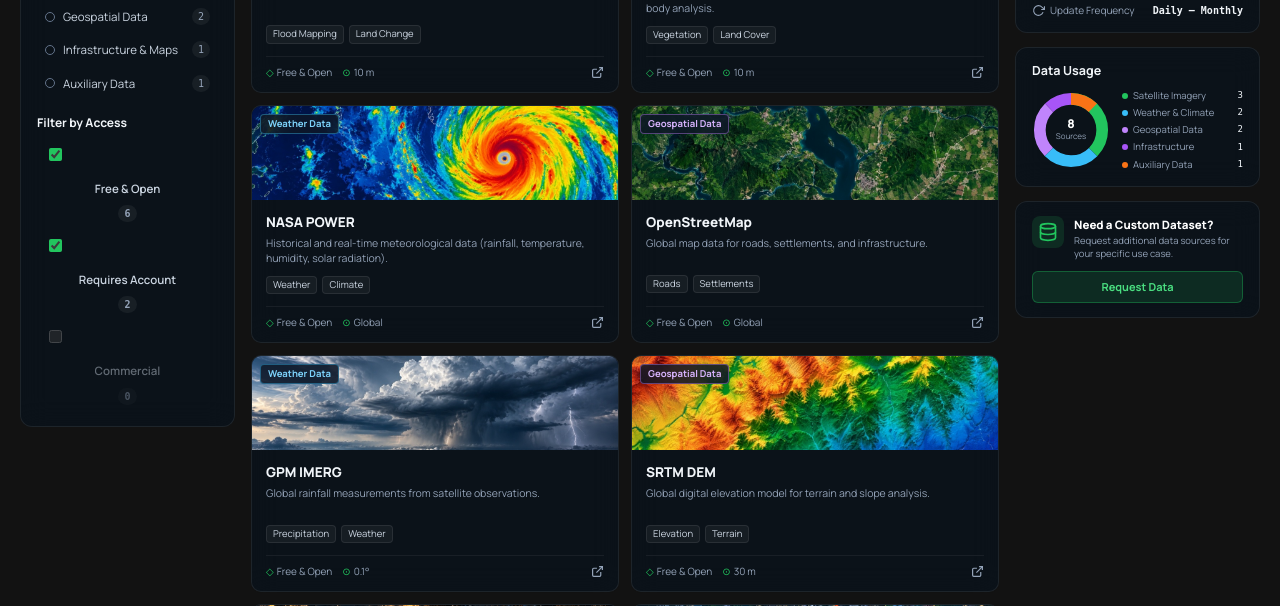
handles dataset request modal interaction
The width and height of the screenshot is (1280, 606).
(page scrolled)
Note: Open modal
Click the button "Request Data".
click(1138, 287)  # box [1032, 271, 1243, 303]
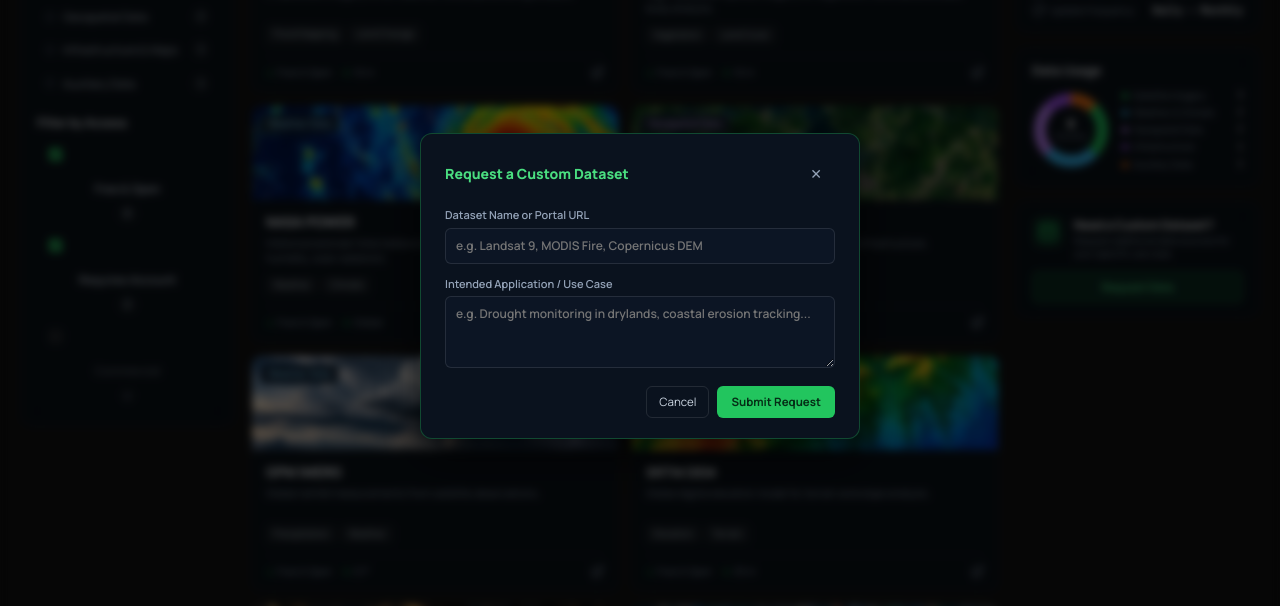
Now the heading "Request a Custom Dataset" is shown, box [445, 163, 629, 184]
Note: Fill in input and submit
Type "Landsat 9 Thermal" into the field with placeholder "e.g. Landsat 9, MODIS Fire, Copernicus DEM".
click(640, 246); type("Landsat 9 Thermal")  # box [445, 228, 835, 264]
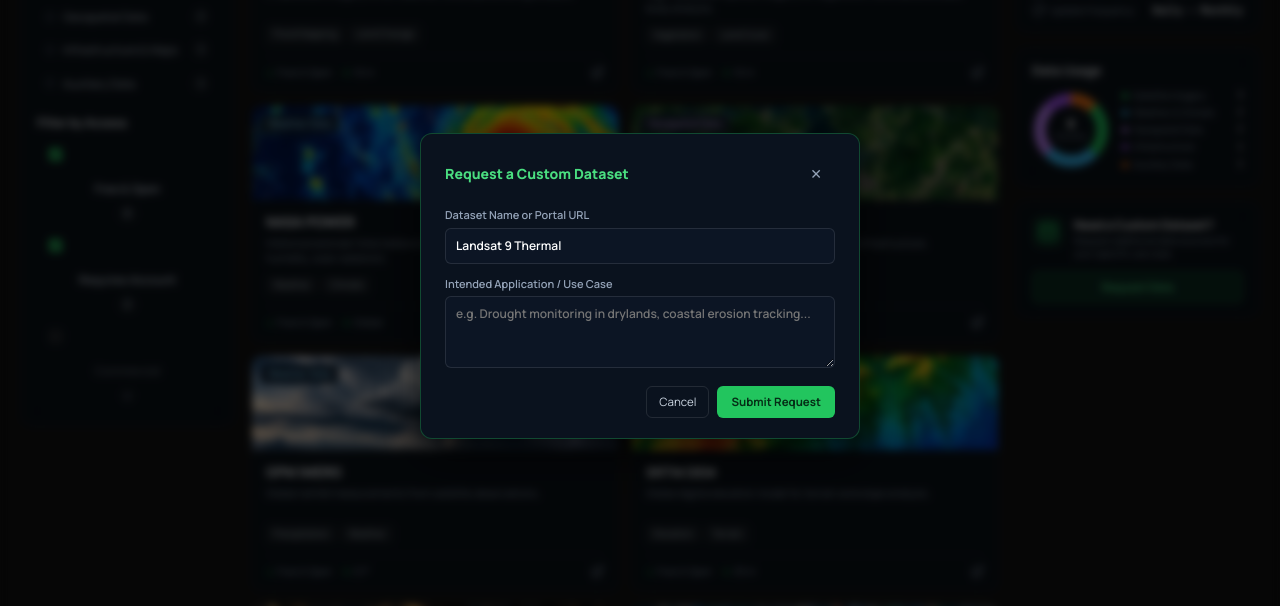
Click the button "Submit Request".
click(776, 402)  # box [717, 386, 835, 418]
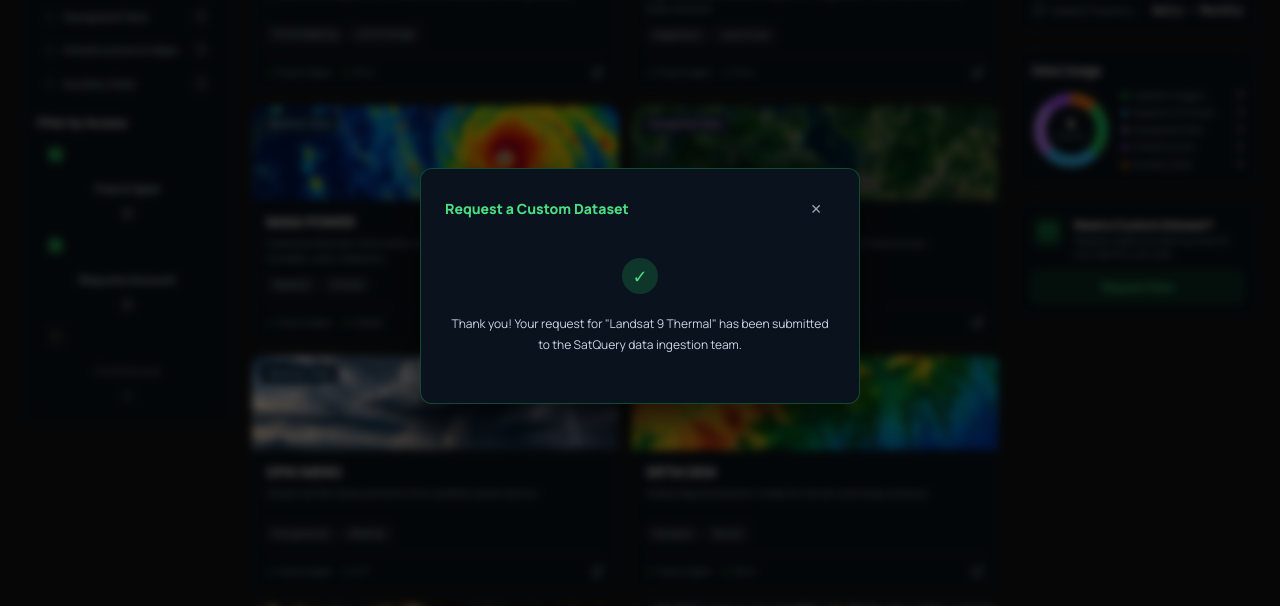
Now the text "Your request for \"Landsat 9 Thermal\" has been submitted" is shown, box [445, 314, 835, 355]
